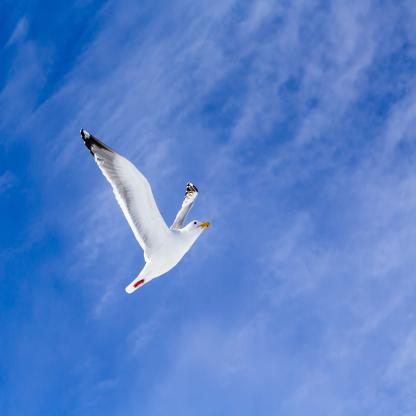bird: (80, 128, 209, 296)
